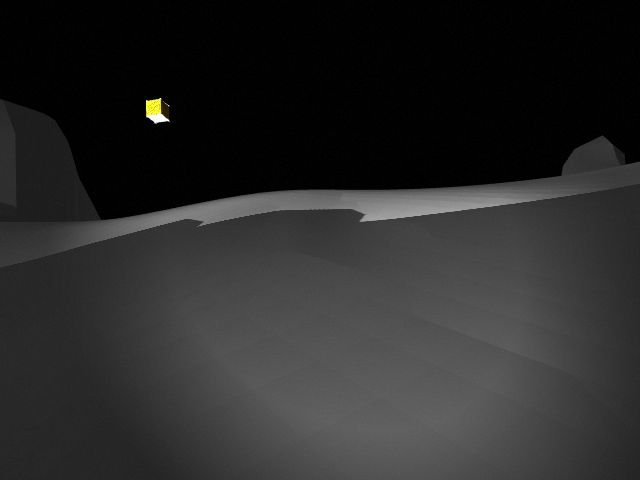cubesat: (139, 90, 184, 133)
